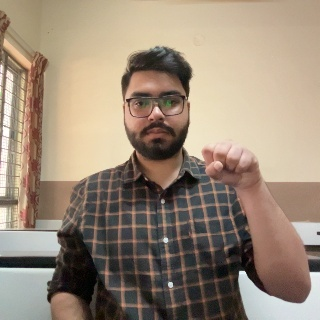Face: (119, 58, 188, 162)
Yes: (202, 137, 266, 228)
